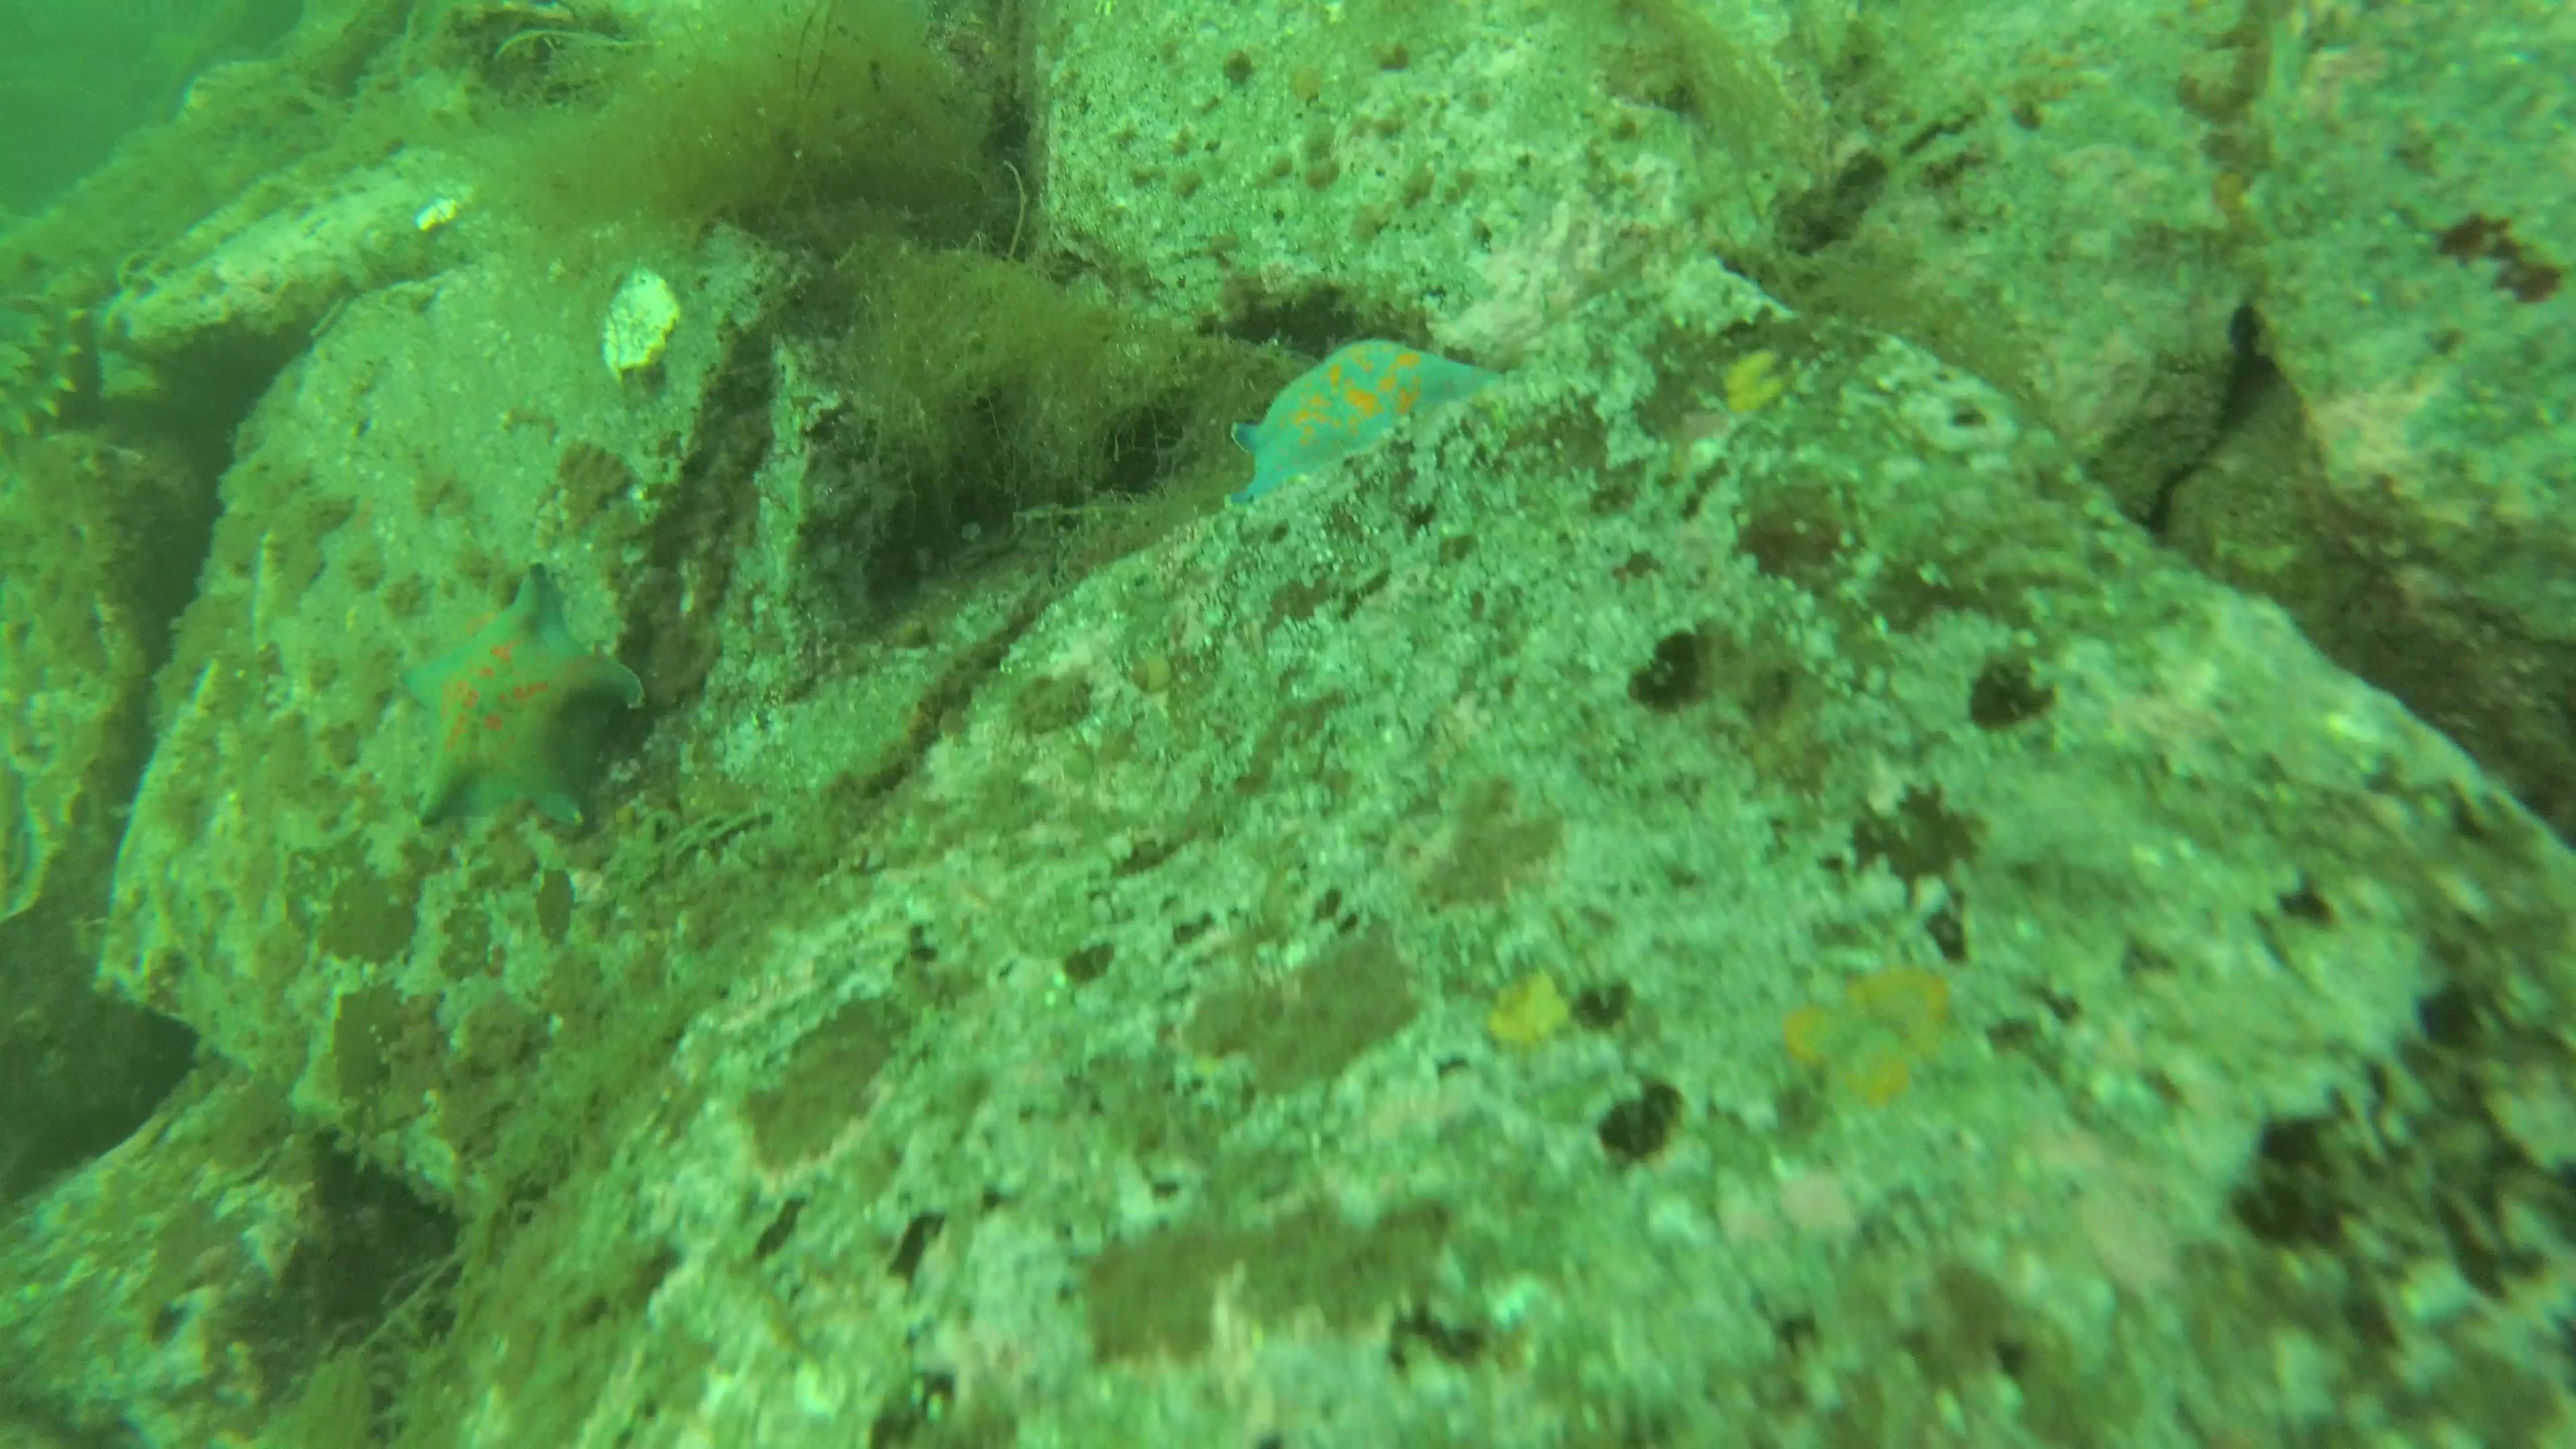holothurian: (5, 288, 88, 449)
starfish: (405, 566, 644, 832), (1223, 338, 1509, 511)
